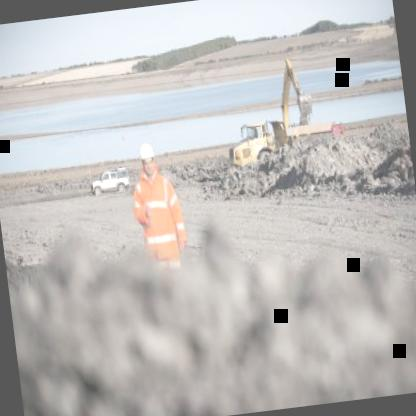helmet: (136, 140, 158, 178)
